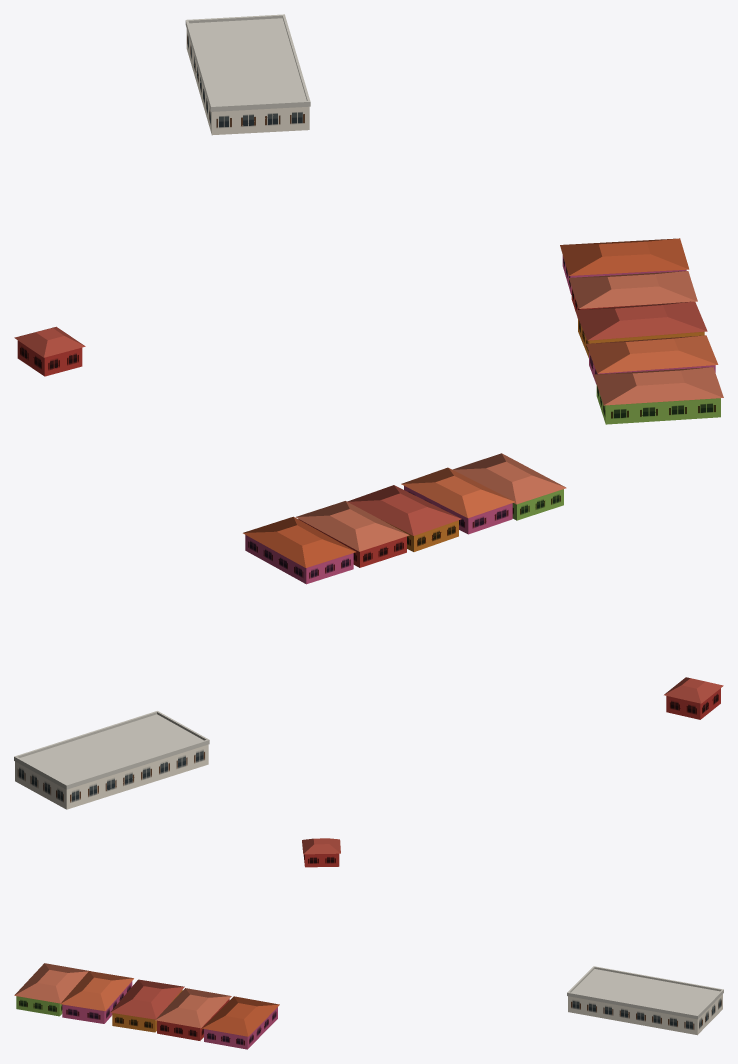
Rendered from msb_palmbeach_m23_m11.glb.
3 views of the same model, one above another, from view 1: azimuth 30°, elevation 25°; view 2: azimuth 150°, elevation 25°; view 3: azimuth 270°, elevation 25° (orthographic). The views are drawn at different scales.
Parts seen in each view (by area): view 1: msb_palmbeach_m23_m11_lod0; view 2: msb_palmbeach_m23_m11_lod0; view 3: msb_palmbeach_m23_m11_lod0.
Part boxes in pixels (box(x1,y1,x2,y2)): msb_palmbeach_m23_m11_lod0: box(14, 14, 723, 424); msb_palmbeach_m23_m11_lod0: box(14, 453, 723, 809); msb_palmbeach_m23_m11_lod0: box(14, 838, 723, 1049).
Size of what is drawn, in the model's own units: 108 by 6.6 by 163.
Materials: 3 (1 with a texture image).
